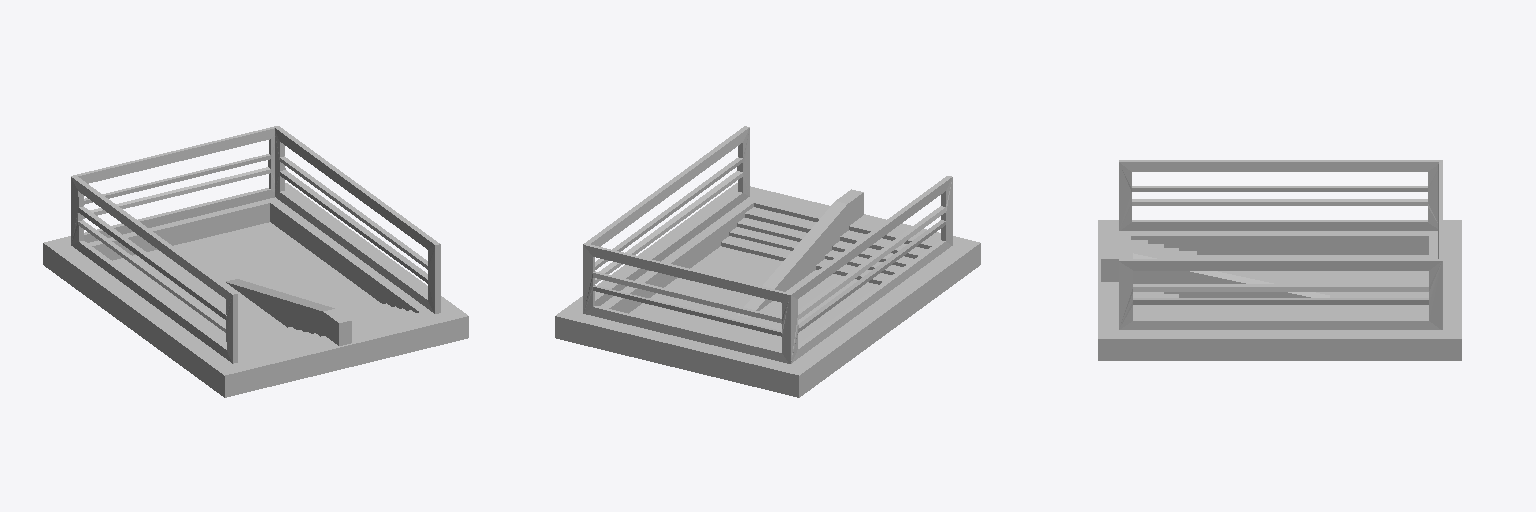
The model's file is SM_Env_UnderpassEntrance_01.obj.
3 renders of one model, left to right at view 1: azimuth 30°, elevation 25°; view 2: azimuth 150°, elevation 25°; view 3: azimuth 270°, elevation 25°, orthographic.
Parts seen in each view (by area): view 1: SM_Env_UnderpassEntrance_01:Mesh; view 2: SM_Env_UnderpassEntrance_01:Mesh; view 3: SM_Env_UnderpassEntrance_01:Mesh.
Boxes of the visible parts, <box> form: SM_Env_UnderpassEntrance_01:Mesh: <box>43,126,468,397</box>; SM_Env_UnderpassEntrance_01:Mesh: <box>555,126,980,397</box>; SM_Env_UnderpassEntrance_01:Mesh: <box>1098,160,1461,360</box>.
Size of the model in its own units: 5.34 by 1.91 by 6.88.